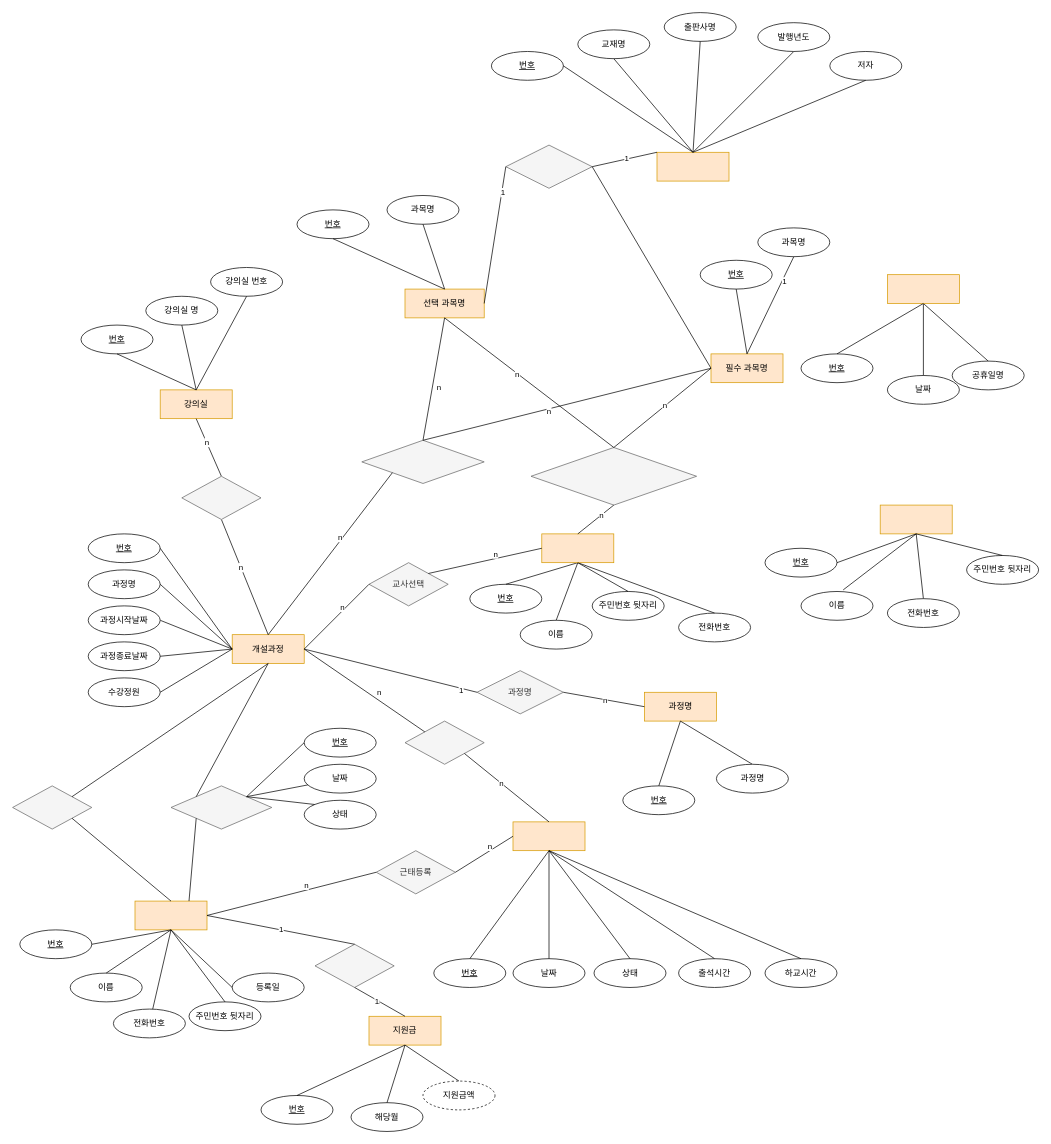
Image size: 1051x1144. Some labels were removed from this diagram. The shapes that lost their labels are listed below. From the top down, each one's centre as x and y in pixels, then its label:
At (548,166): "과목사용교재".
At (692,166): "교재".
At (923,288): "공휴일".
At (422,461): "개설과정과목".
At (613,476): "교사 가능 과목".
At (221,497): "강의실정보".
At (915,519): "관리자".
At (577,548): "교사".
At (444,742): "개설과정정보".
At (52,807): "수강정보".
At (221,807): "상태리스트".
At (548,836): "출결".
At (170,915): "교육생".
At (354,965): "교육생정보".
